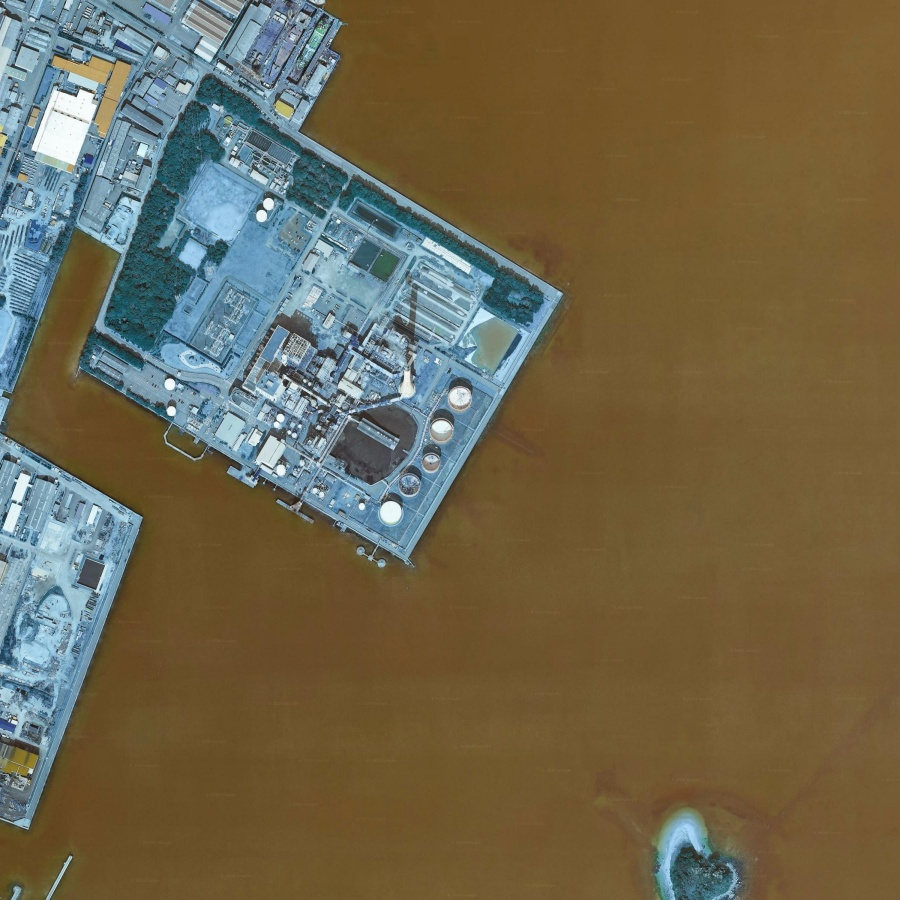PowerPlant: (158, 238, 527, 558)
